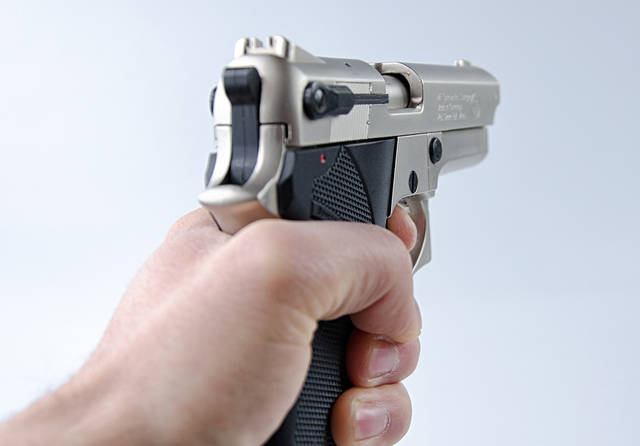gun: (195, 32, 508, 446)
